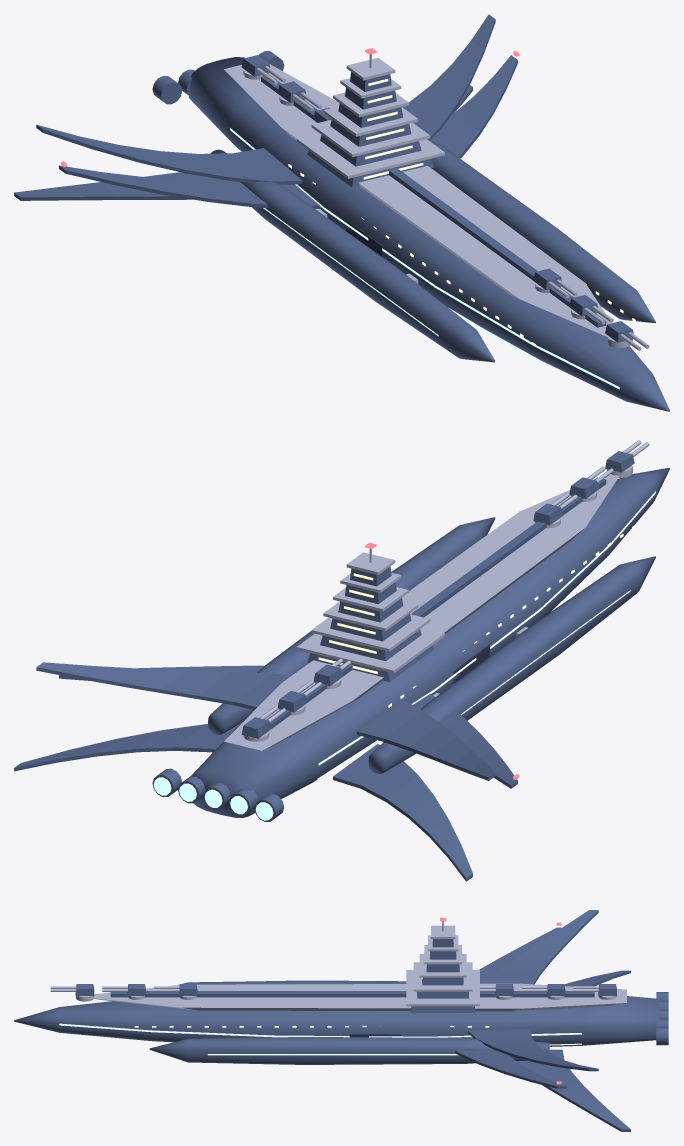
File: dread.glb
3 renders of one model, top to bottom at view 1: azimuth 30°, elevation 25°; view 2: azimuth 150°, elevation 25°; view 3: azimuth 270°, elevation 25°, orthographic. The views are drawn at different scales.
Visible parts, largest first — view 1: dread; view 2: dread; view 3: dread.
Part boxes in pixels (x1,y1,x2,y2): dread: [14, 14, 669, 411]; dread: [14, 440, 669, 881]; dread: [14, 910, 669, 1131].
Bounding box in the file's own units: 30.45 × 11.89 × 52.86.
